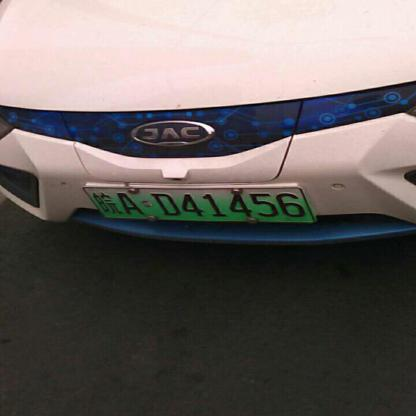lp: (83, 187, 314, 221)
